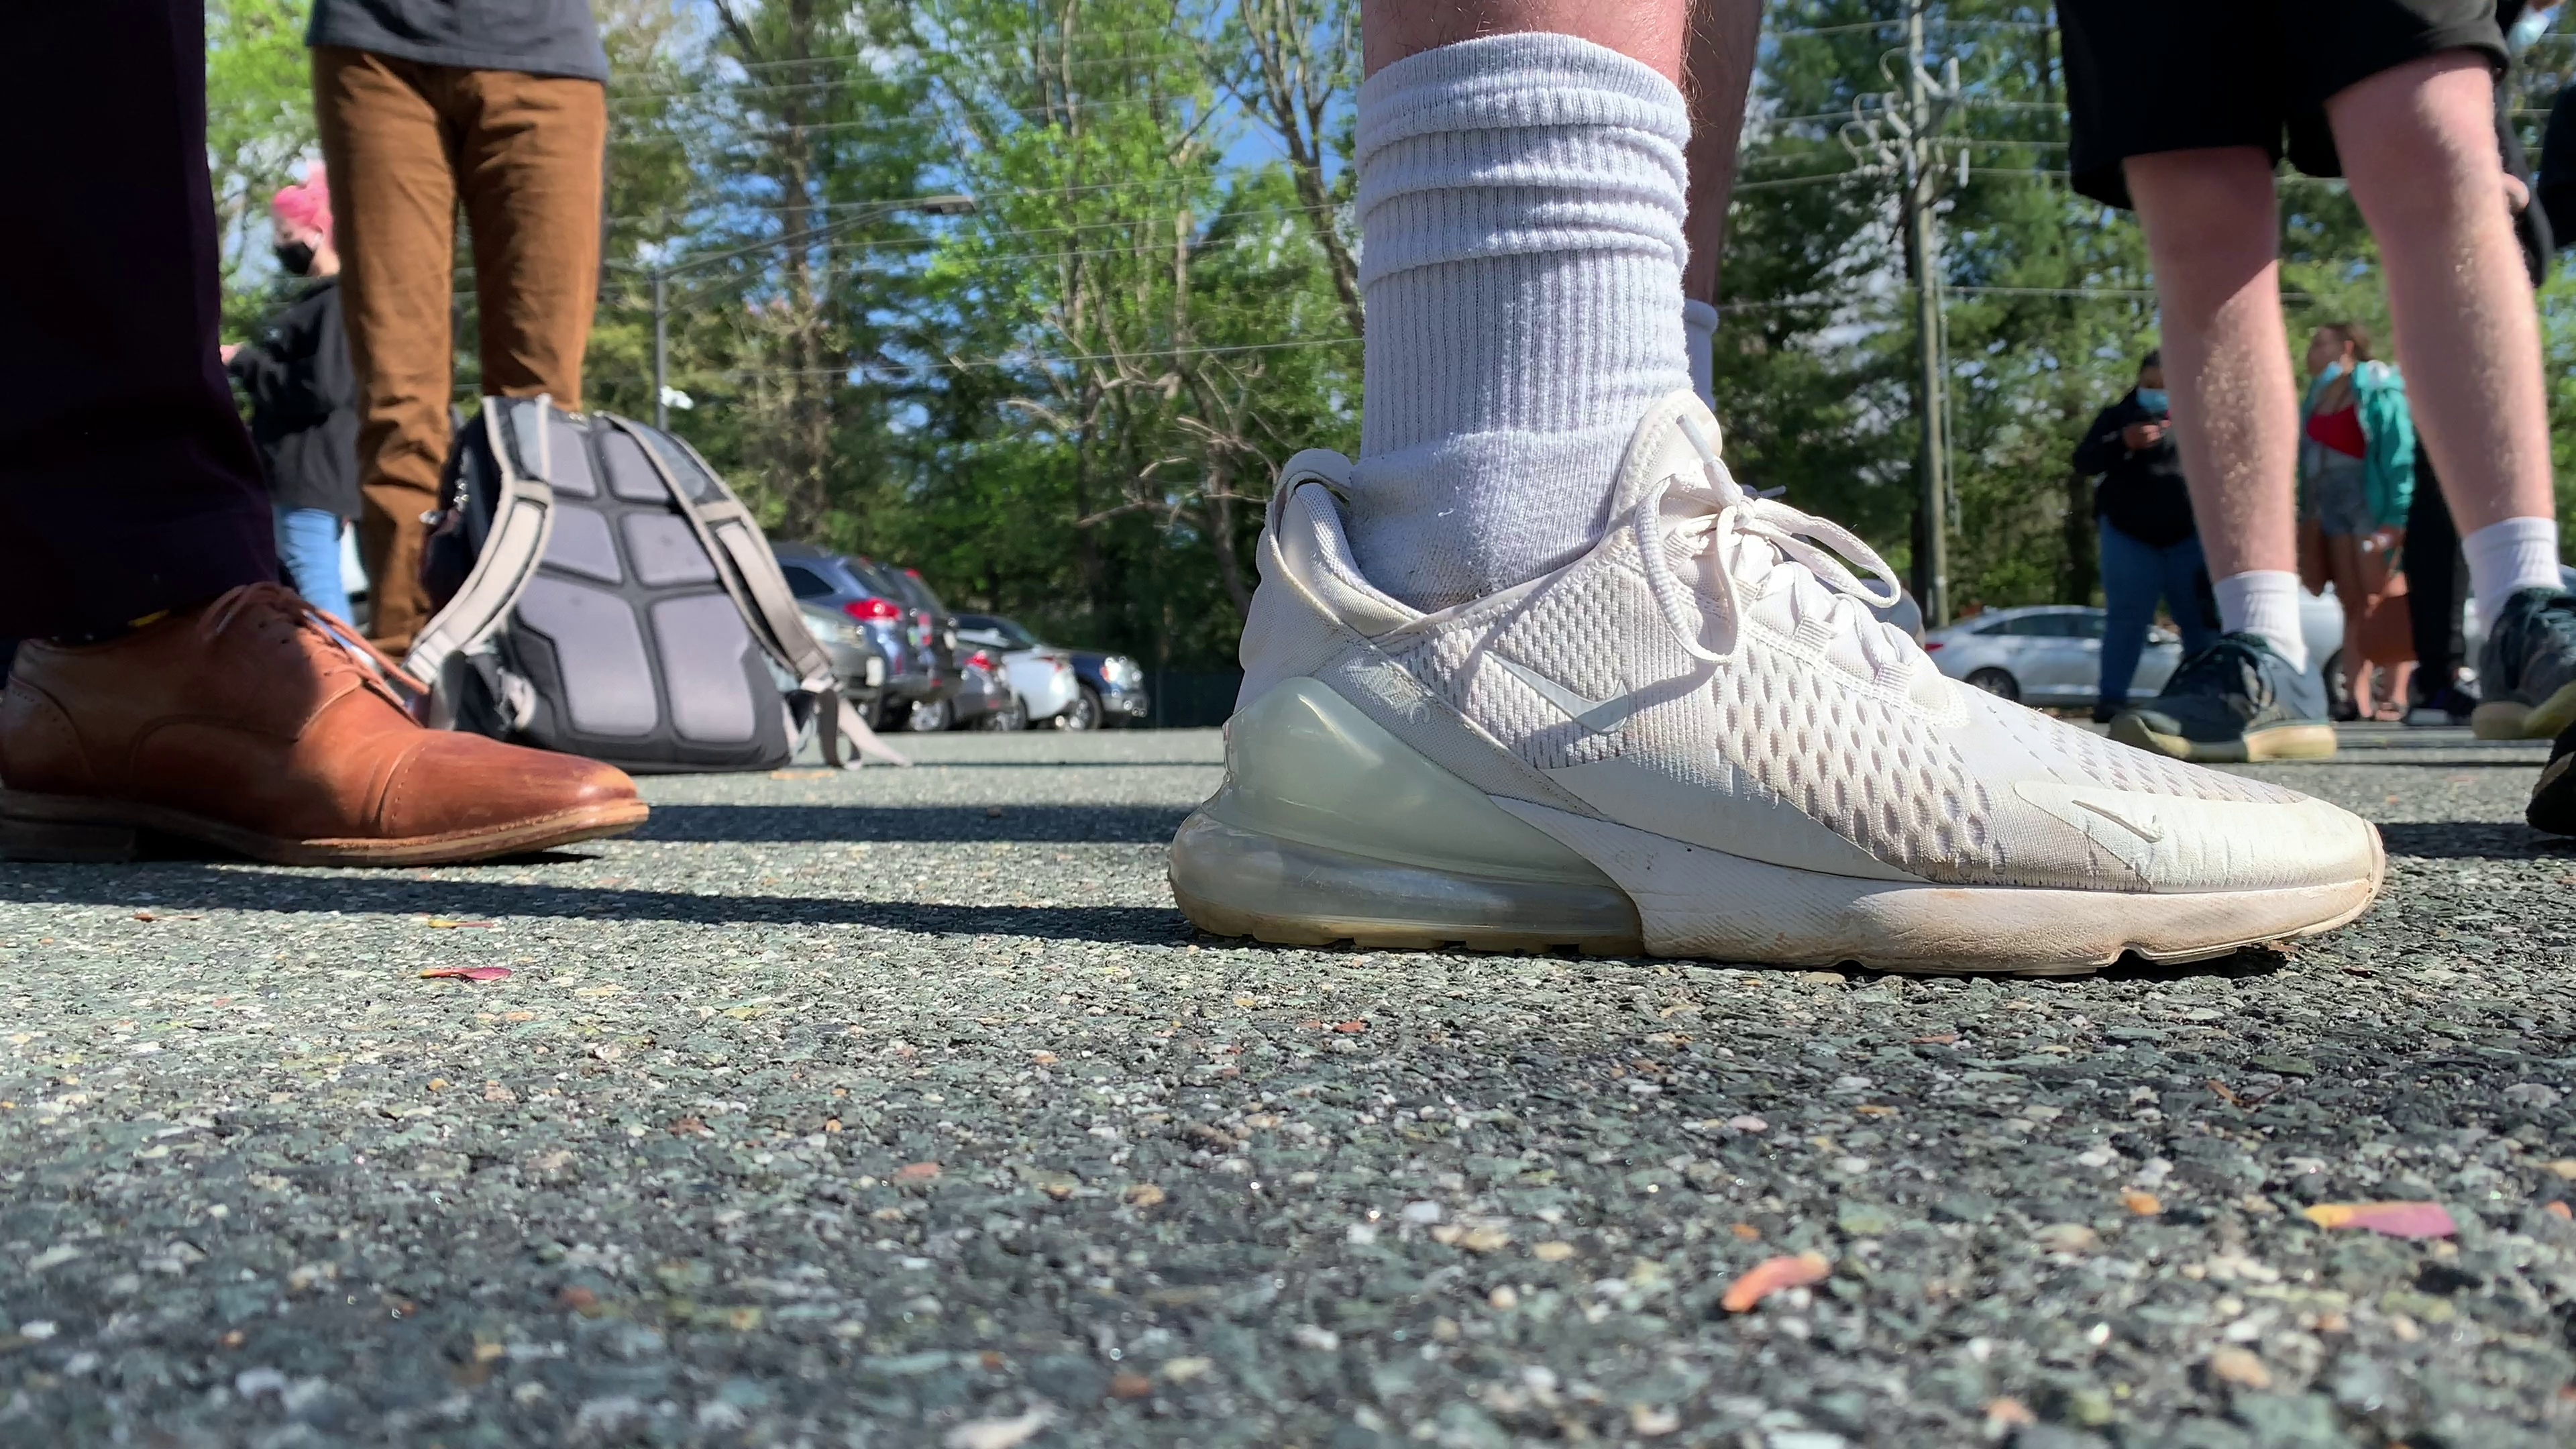shoe: (1166, 386, 2387, 975), (0, 586, 649, 867), (2107, 630, 2339, 764), (2468, 582, 2576, 736)
